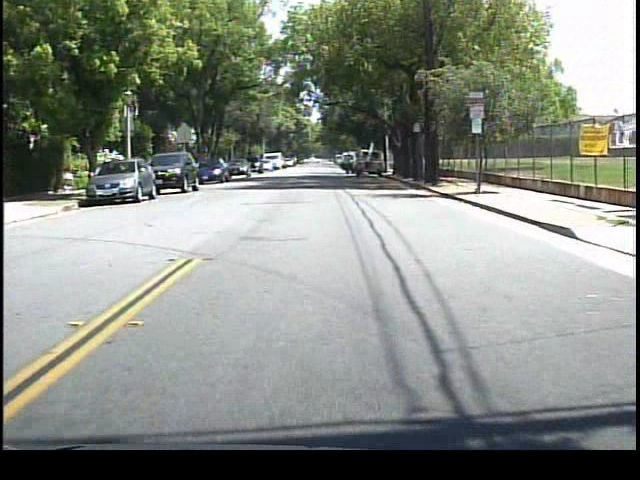person: (340, 153, 356, 178)
